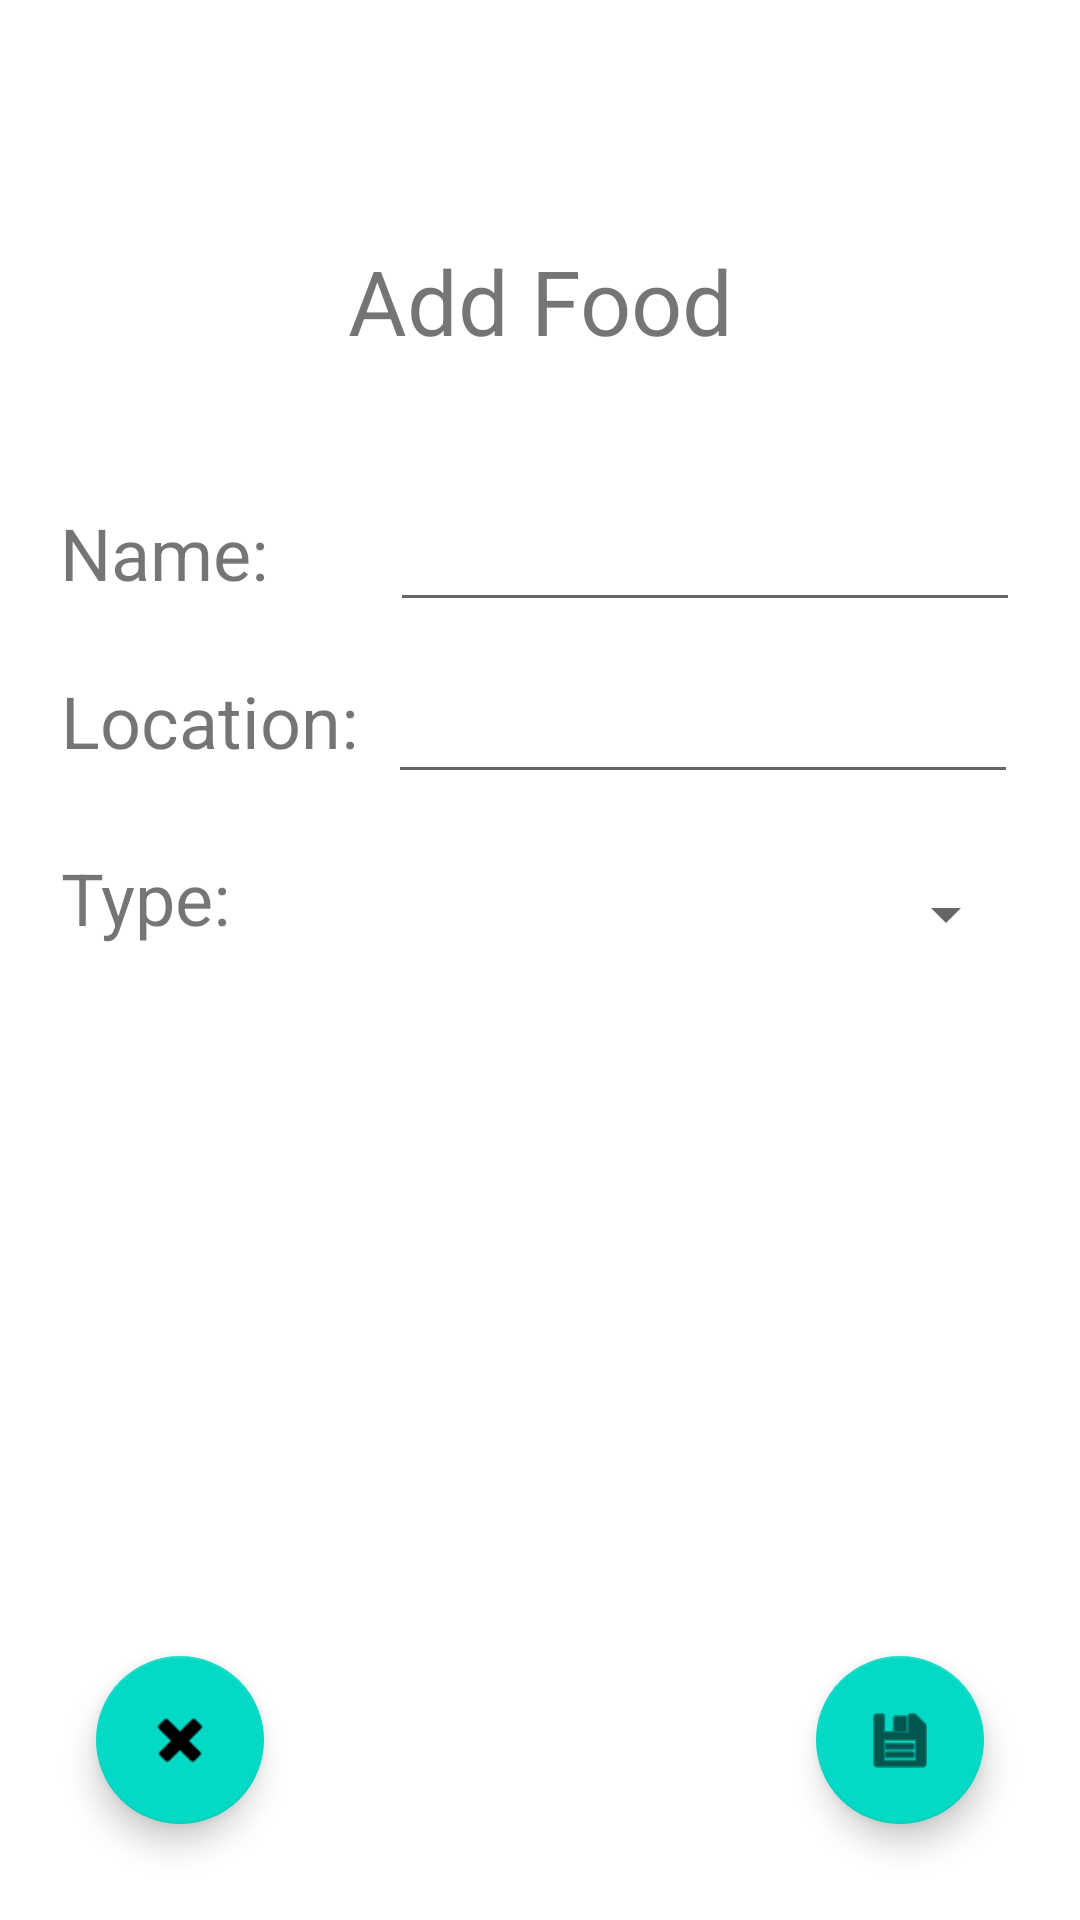

Named icons in this screenshot (1080 × 1920) and their centers, (x,y):
delete: (180,1740)
save: (900,1740)
